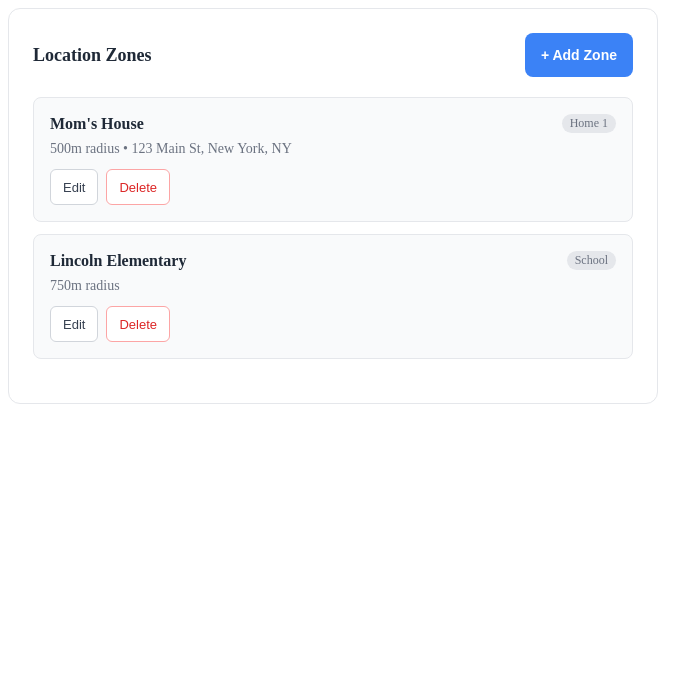
Scenario: LocationZoneEditor › Add Zone Form › opens form when add button clicked
Click the button with test id "add-zone-button" at (579,55), box [525,33,633,77]
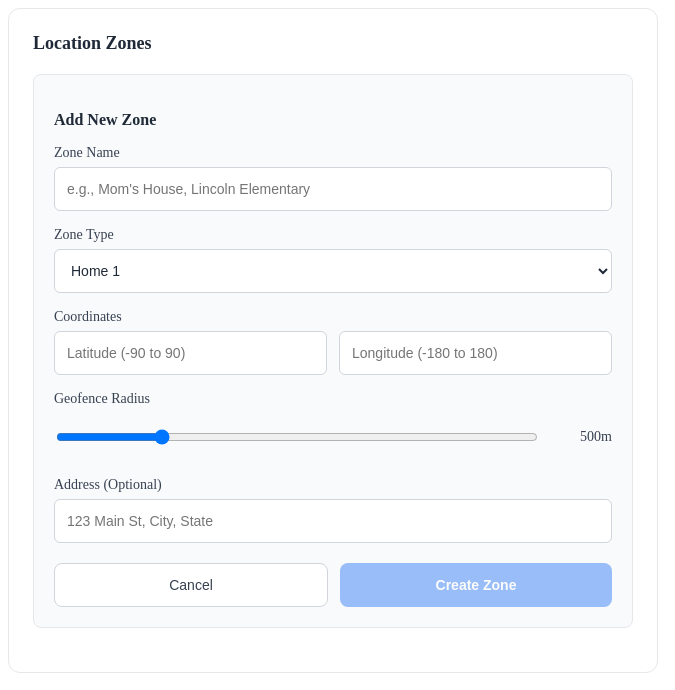
expect the element with test id "zone-form" is shown: met
expect the heading "Add New Zone" is shown: met, box [54,111,156,128]
